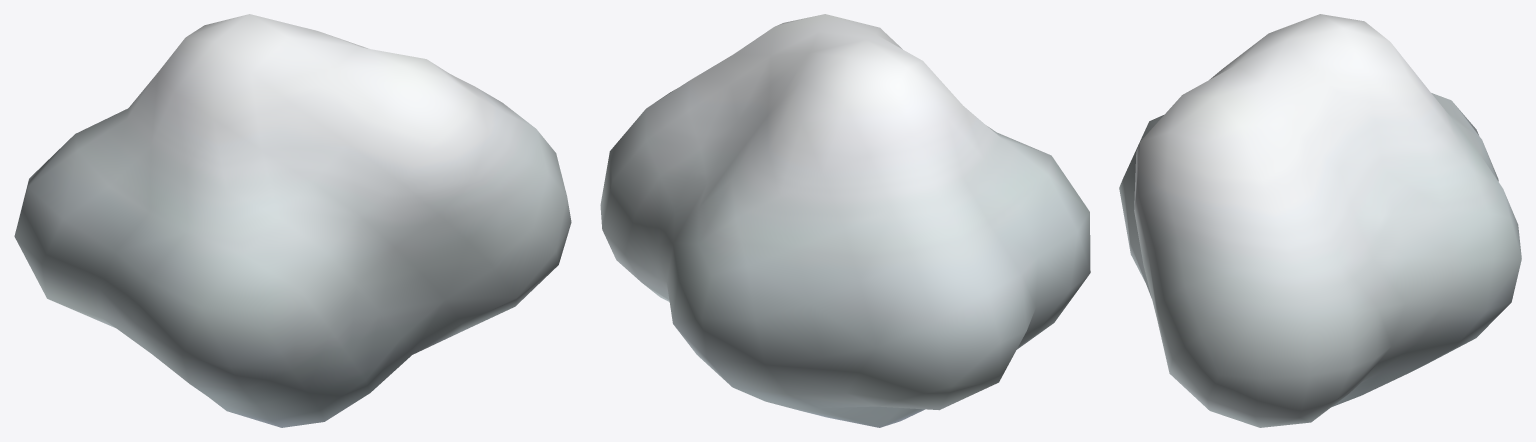
Rendered from cloud-small.glb.
The picture shows the model from 3 angles, left to right: view 1: azimuth 30°, elevation 25°; view 2: azimuth 150°, elevation 25°; view 3: azimuth 270°, elevation 25°; orthographic projection. The views are drawn at different scales.
Parts seen in each view (by area): view 1: cloud_small; view 2: cloud_small; view 3: cloud_small.
Boxes of the visible parts, x1,y1,x2,y2 form: cloud_small: [14, 14, 571, 427]; cloud_small: [600, 14, 1090, 427]; cloud_small: [1119, 14, 1521, 427].
Bounding box in the file's own units: 2.34 × 1.84 × 1.79.
1 material, 1 textured.
